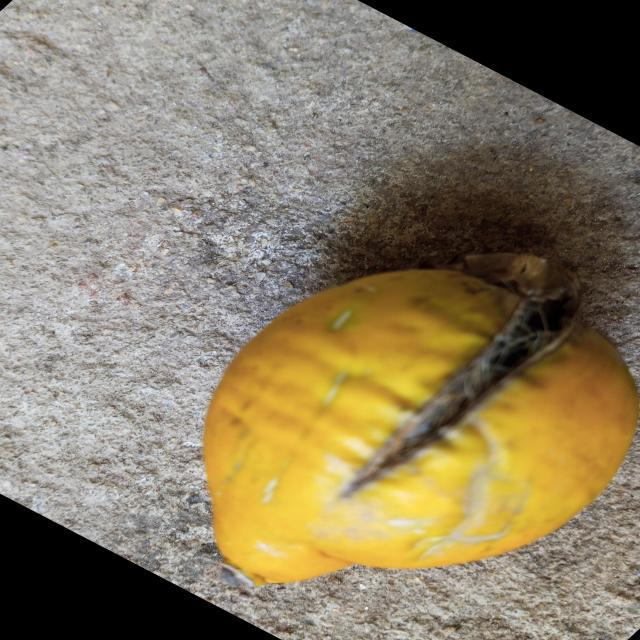damaged: (201, 259, 638, 588)
